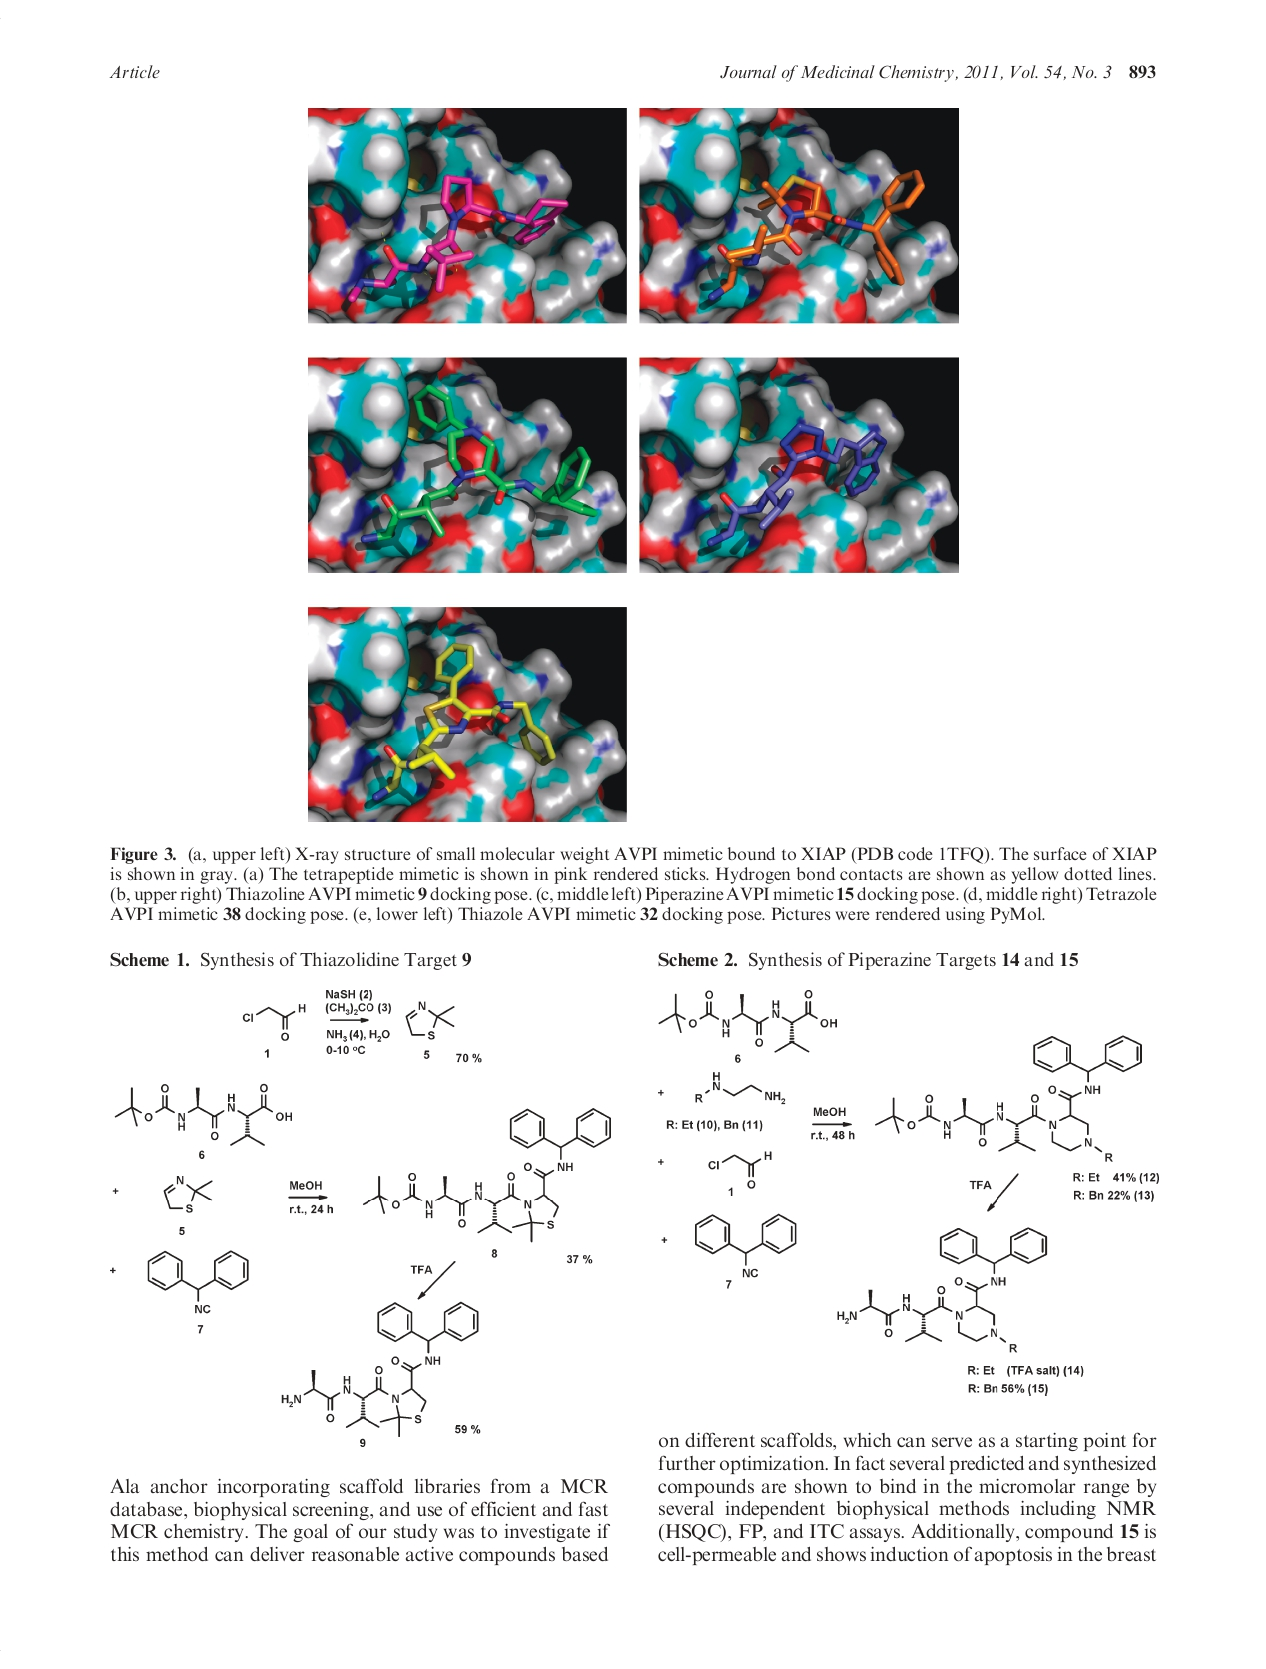exist_molecular: (868, 1031, 1145, 1165), (356, 1105, 618, 1243), (832, 1222, 1053, 1355), (278, 1299, 481, 1439), (108, 1079, 297, 1149), (654, 985, 840, 1055), (145, 1243, 253, 1317), (689, 1209, 801, 1279), (690, 1065, 790, 1114), (237, 988, 310, 1043), (399, 992, 457, 1047), (705, 1146, 775, 1192), (157, 1169, 219, 1217)
